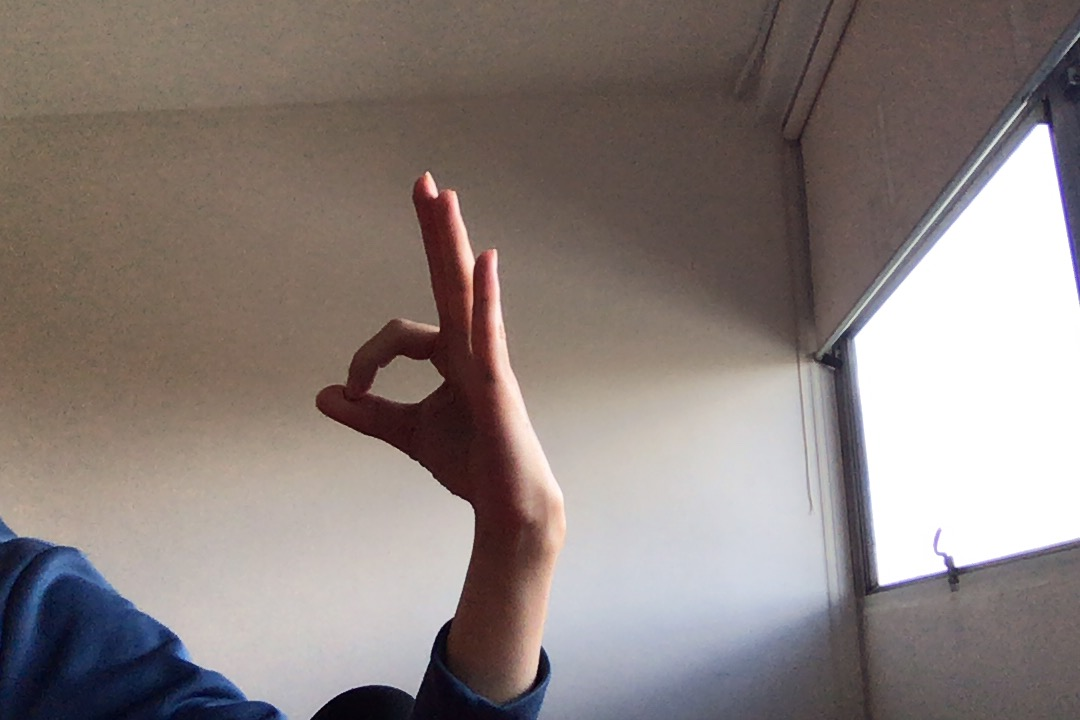oksign: (305, 168, 580, 514)
